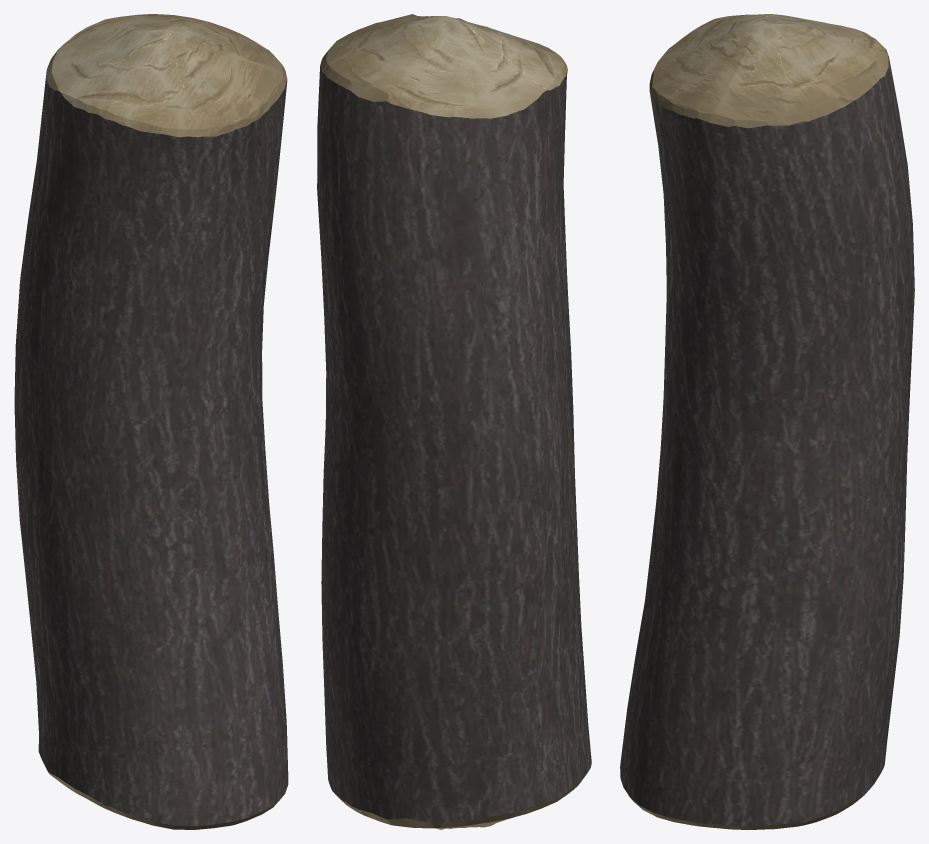
3 views of the same model, side by side, from view 1: azimuth 30°, elevation 25°; view 2: azimuth 150°, elevation 25°; view 3: azimuth 270°, elevation 25° (orthographic). The views are drawn at different scales.
Visible parts, largest first — view 1: SM_BM_Oak_Tree_02_quarter_04_LOD0; view 2: SM_BM_Oak_Tree_02_quarter_04_LOD0; view 3: SM_BM_Oak_Tree_02_quarter_04_LOD0.
Part boxes in pixels (x1=…): SM_BM_Oak_Tree_02_quarter_04_LOD0: x1=14, y1=14, x2=288, y2=829; SM_BM_Oak_Tree_02_quarter_04_LOD0: x1=317, y1=14, x2=591, y2=829; SM_BM_Oak_Tree_02_quarter_04_LOD0: x1=620, y1=14, x2=914, y2=829.
Size of the model in its own units: 0.9217 by 3.05 by 1.02.
1 material, 1 textured.
